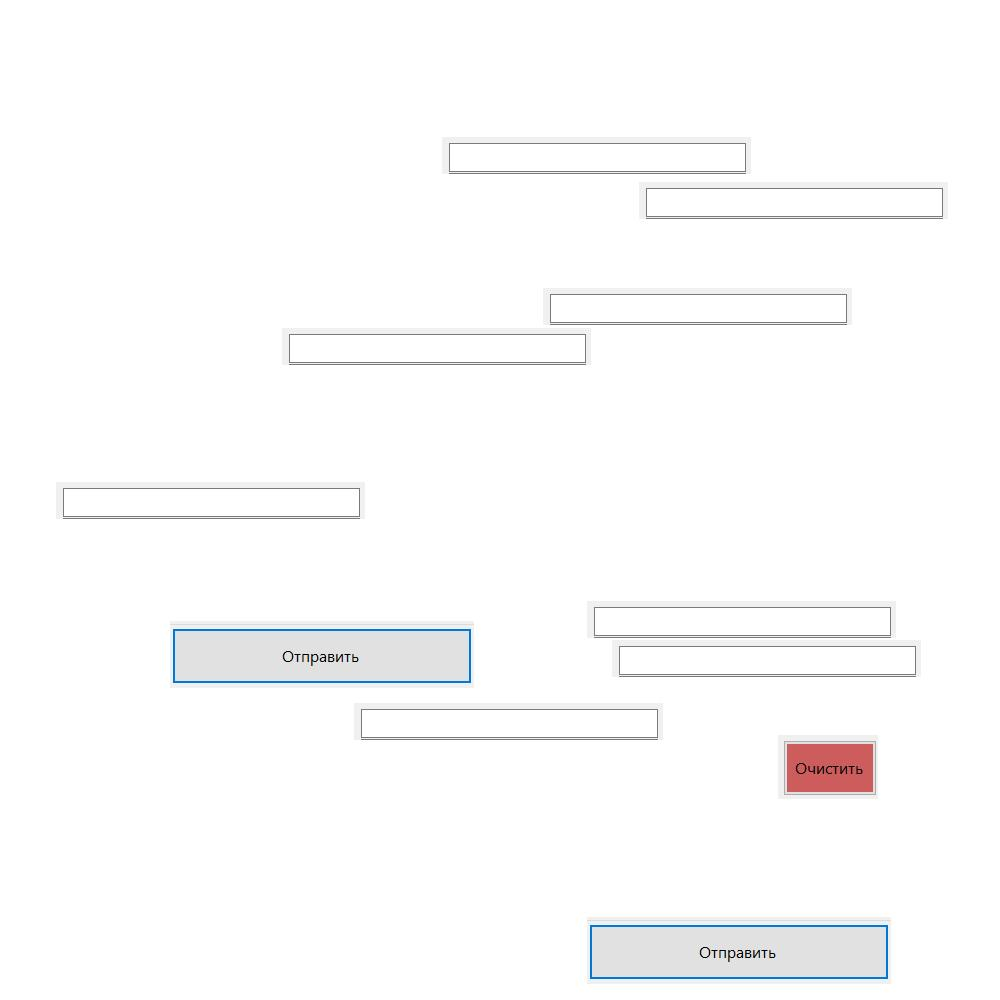Button: (587, 917, 891, 984), (170, 621, 474, 688), (778, 735, 878, 799)
EditText-: (282, 328, 591, 365), (543, 288, 852, 325), (442, 137, 751, 174), (354, 703, 663, 740), (56, 482, 365, 519), (587, 601, 896, 638), (639, 182, 948, 219), (612, 640, 921, 677)
